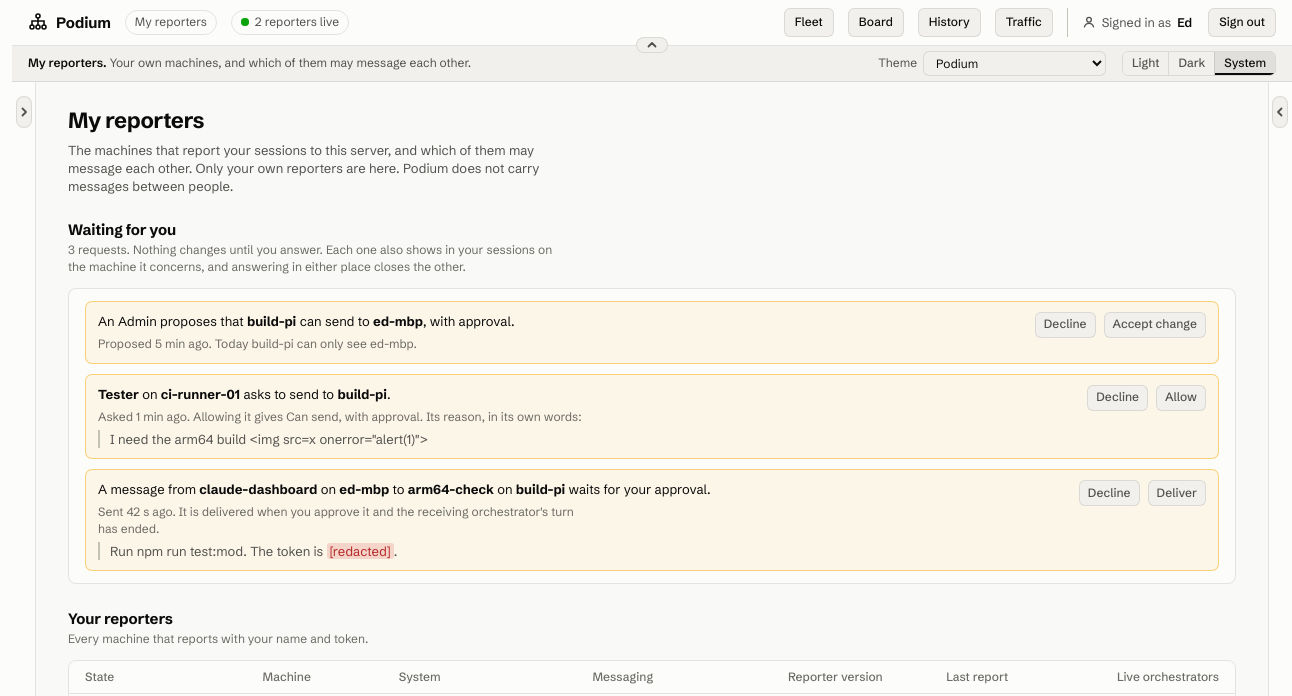
Test case: the rail and the Activity panel around the page (#446) › shows the whole fleet in the rail, and selects nothing there
Step 1. Click the button named "left pane" → click(24, 112), box x1=16 y1=96 x2=32 y2=128
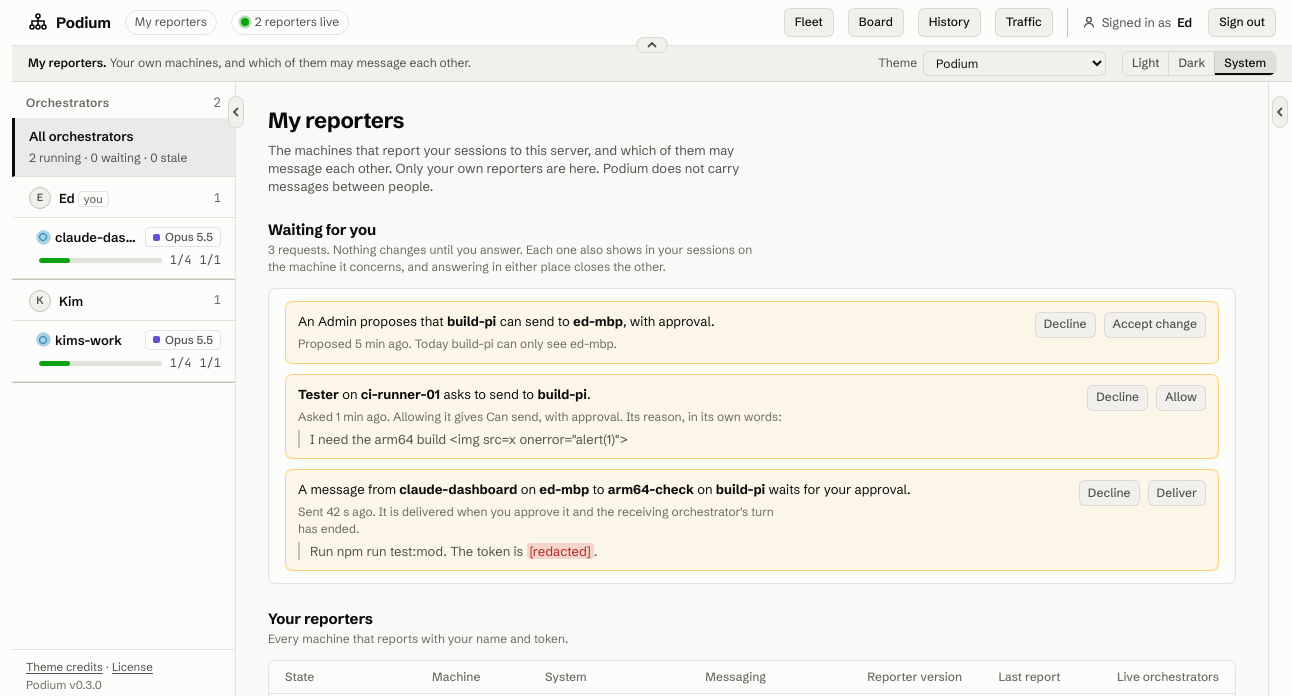
Expected: the text "kims-work" is shown, x1=55 y1=332 x2=122 y2=348
Expected: the button with class "ritem" shows "All orchestrators", x1=12 y1=118 x2=235 y2=177
